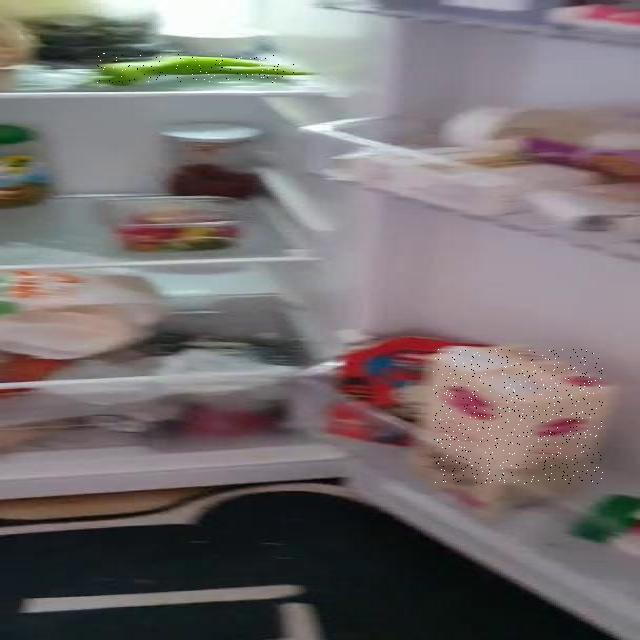green chilies: (95, 53, 295, 83)
milk: (434, 349, 604, 484)
